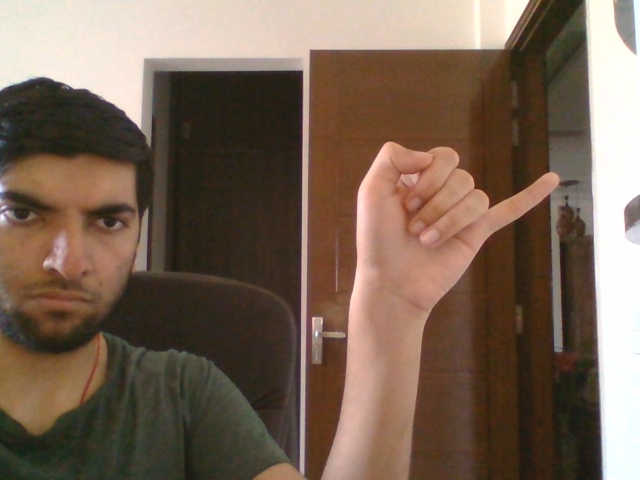LetterJ: (354, 140, 561, 307)
